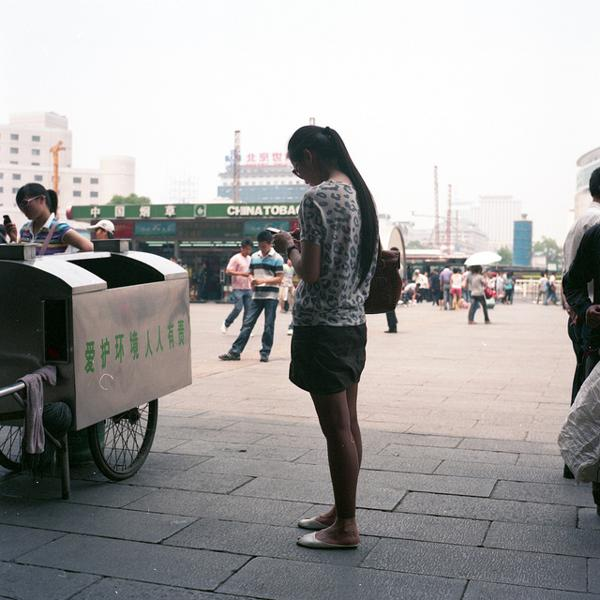person: (272, 124, 380, 552)
